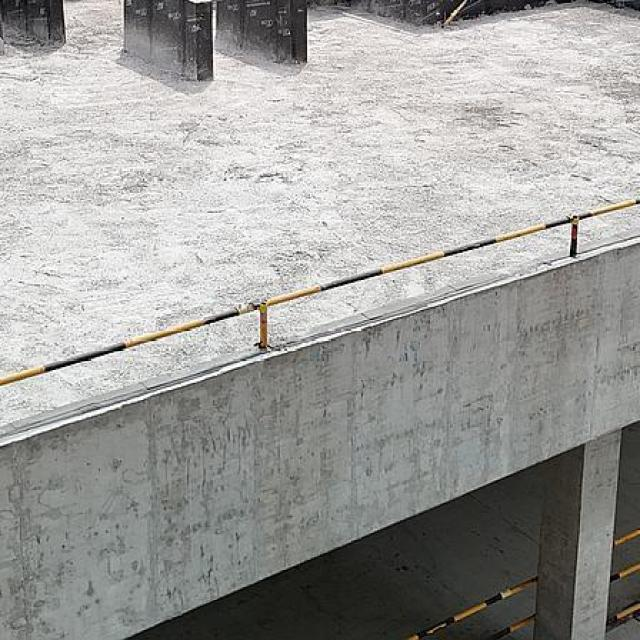edge_guardrail: (0, 191, 640, 390), (400, 573, 540, 640), (605, 525, 640, 627), (444, 0, 471, 26)
